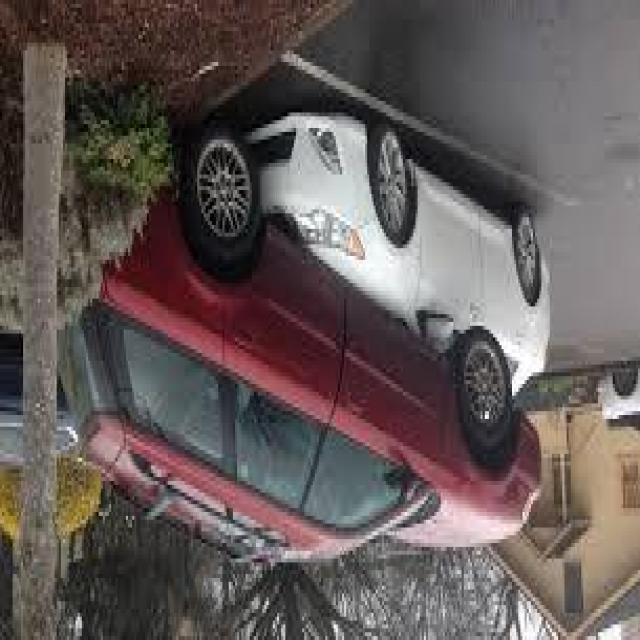severe: (45, 87, 555, 580)
